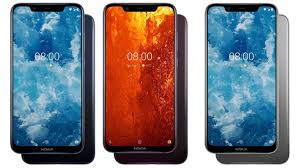nokia: (5, 1, 88, 158), (101, 1, 184, 158), (198, 1, 281, 158)
